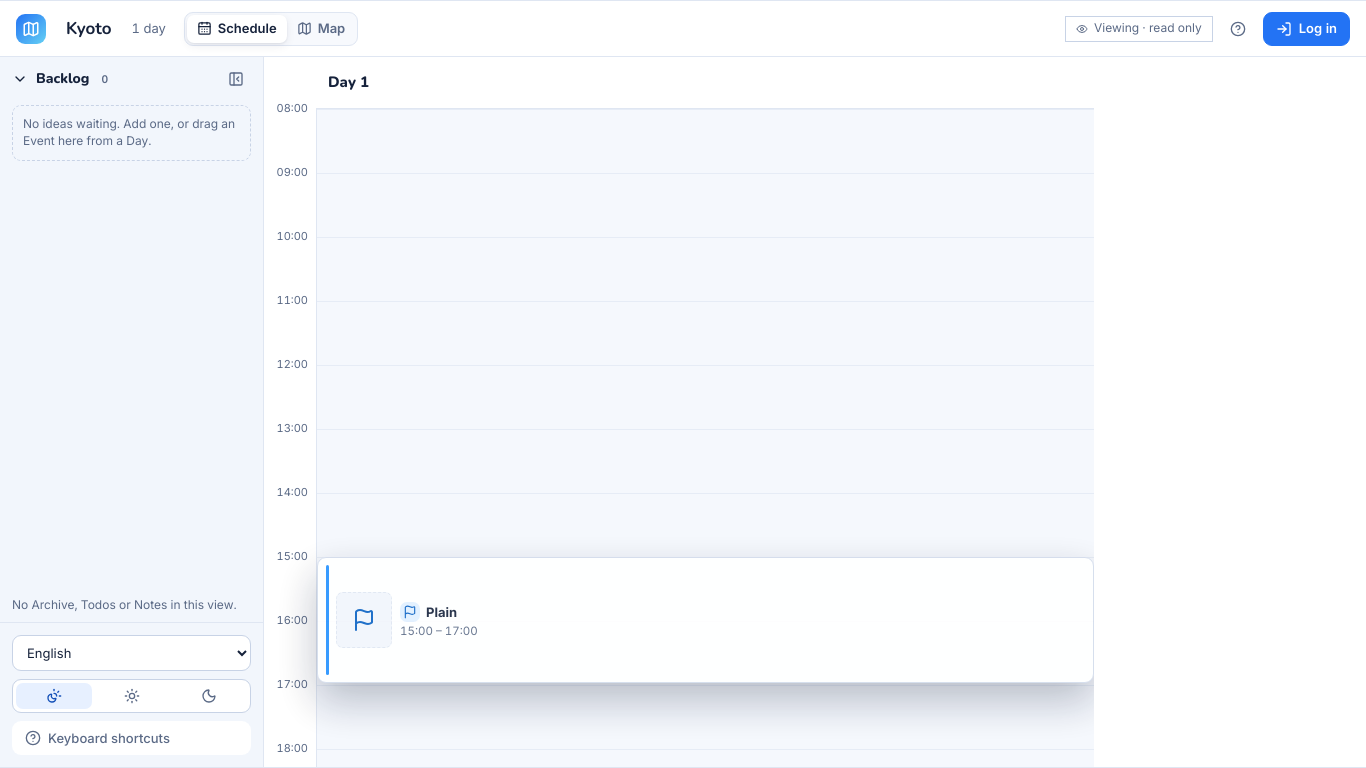
an Event image seen by a Viewer › shows no picture for an Event without an image
The width and height of the screenshot is (1366, 768).
Click the text "Plain": (442,612) 426,604 -> 457,620
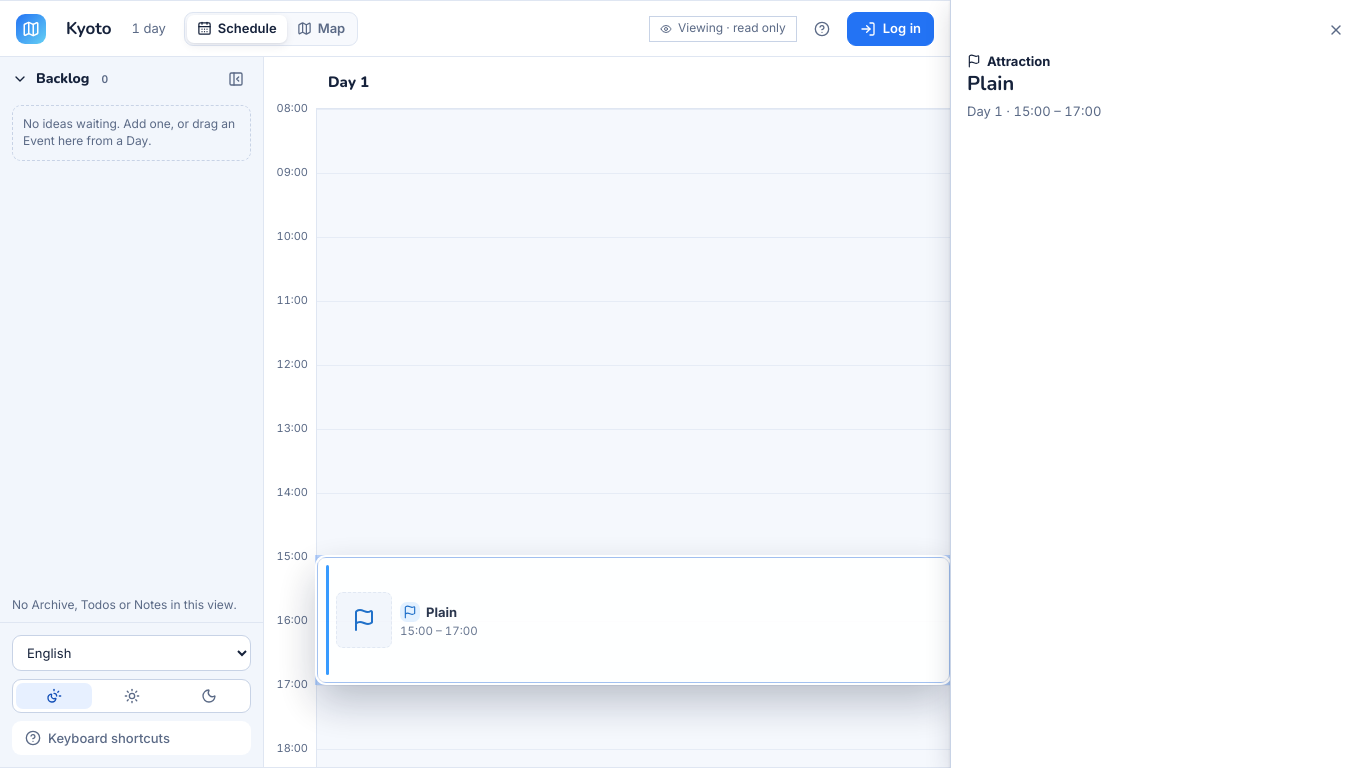
Result: the element named "Event" is shown at 950,0 -> 1365,767
